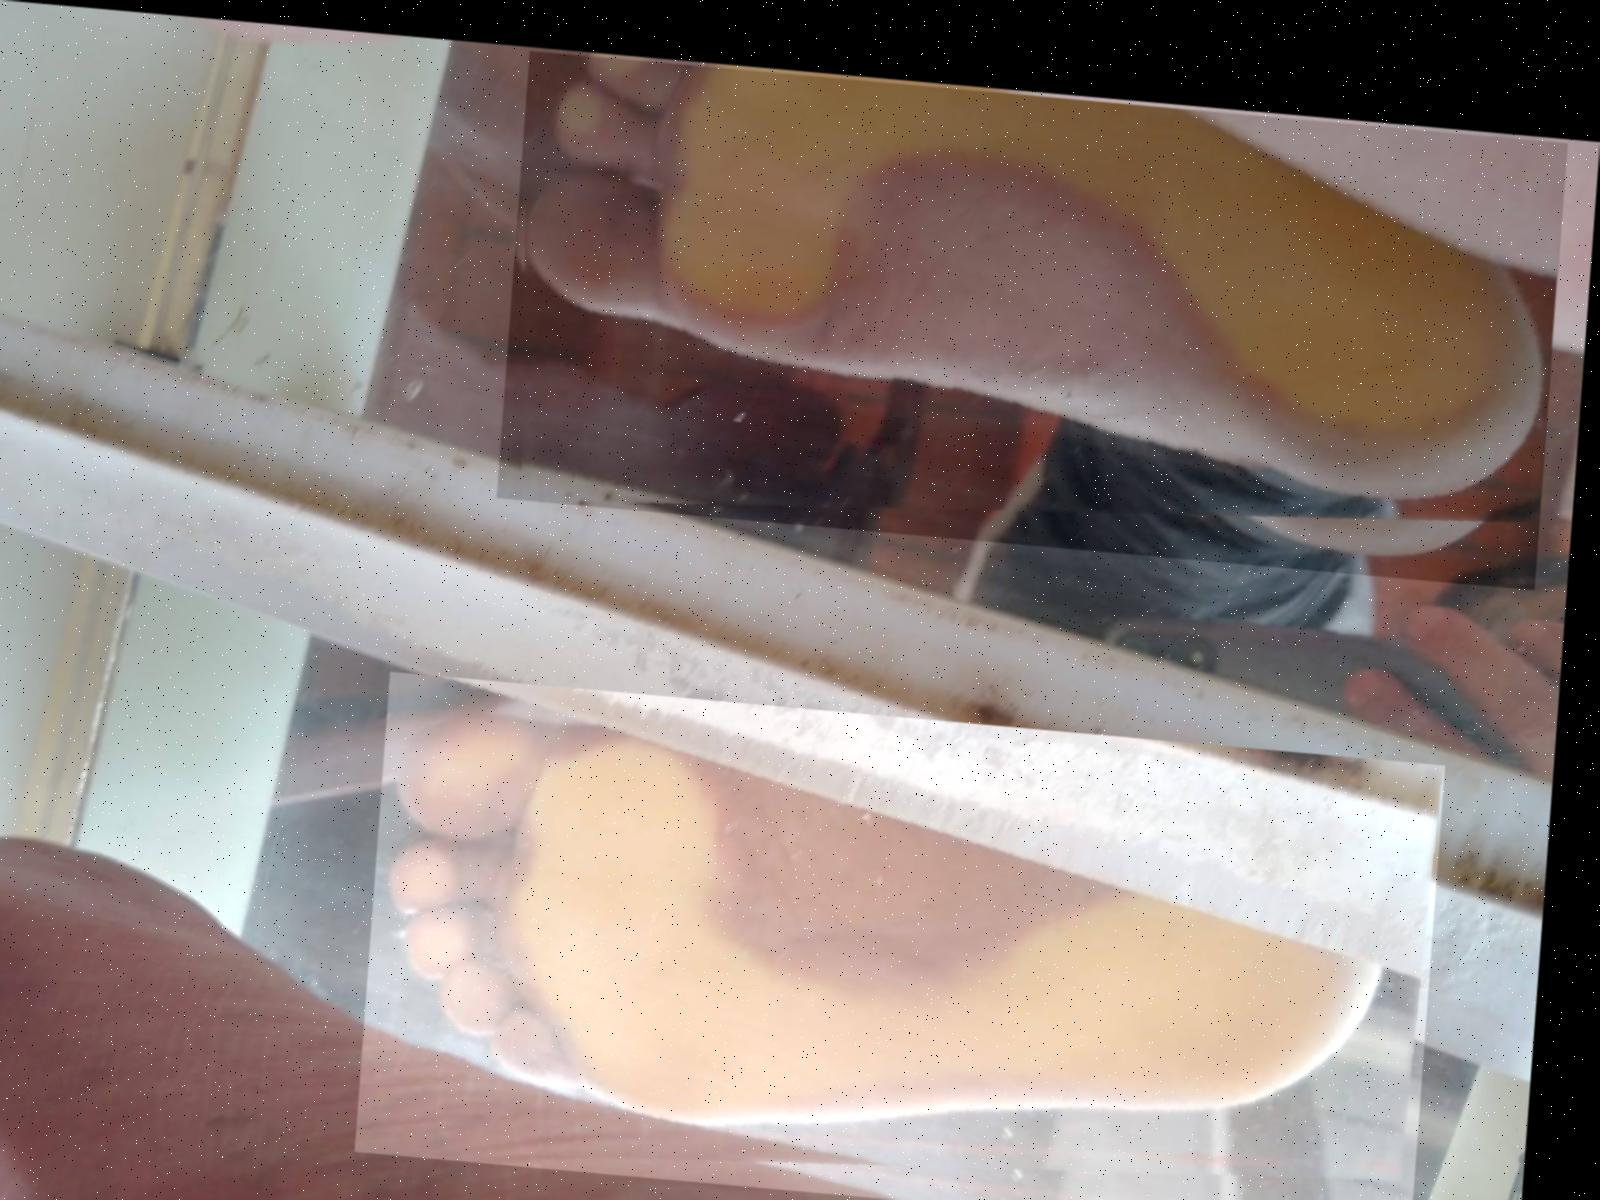Present: (373, 664, 1455, 1200), (504, 42, 1570, 561)
